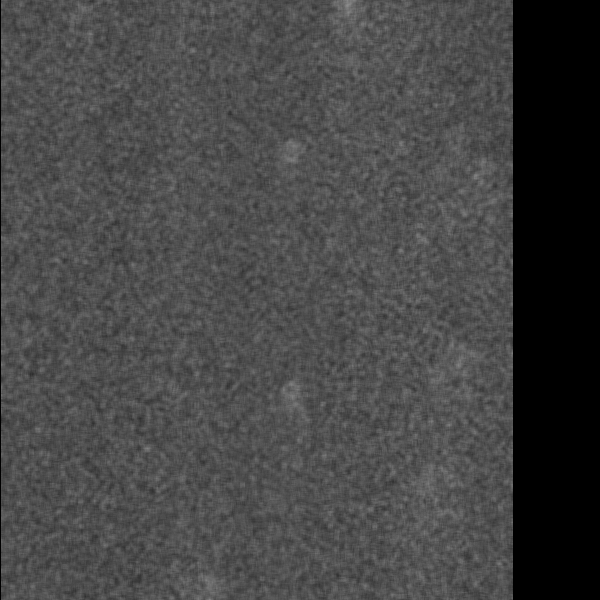spark: (280, 372, 304, 430), (277, 133, 303, 173), (469, 166, 488, 188), (452, 347, 465, 379)
